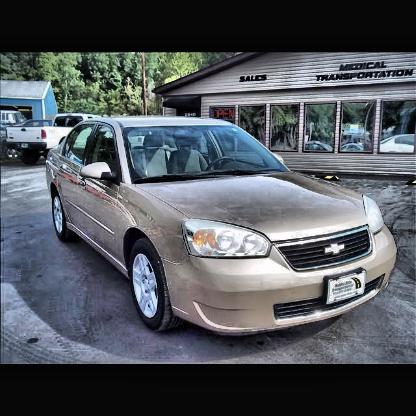Chevrolet Malibu Sedan 2007: (36, 104, 409, 354)
